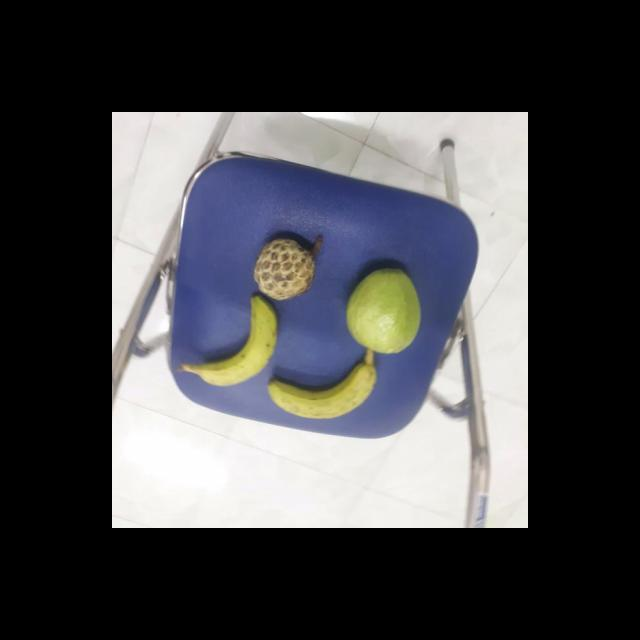Sakya fruit: (254, 235, 324, 300)
banana: (194, 298, 282, 387)
guava: (347, 266, 427, 354)
